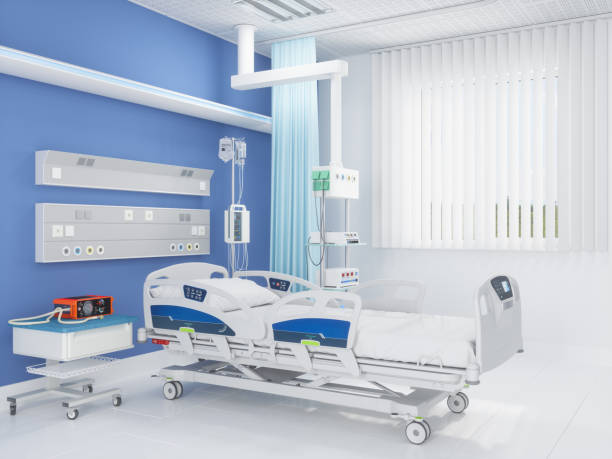bedrail: (143, 282, 269, 341), (263, 292, 361, 347), (350, 280, 422, 313), (232, 270, 319, 297)
bedside_table: (8, 316, 134, 419)
curtain: (270, 38, 321, 290)
electrosurgical_unit: (310, 230, 363, 248)
foot_board: (475, 272, 523, 375)
hospital_bed: (146, 262, 523, 446)
infusion_pump: (223, 210, 250, 243)
iv_pole: (219, 137, 245, 276)
